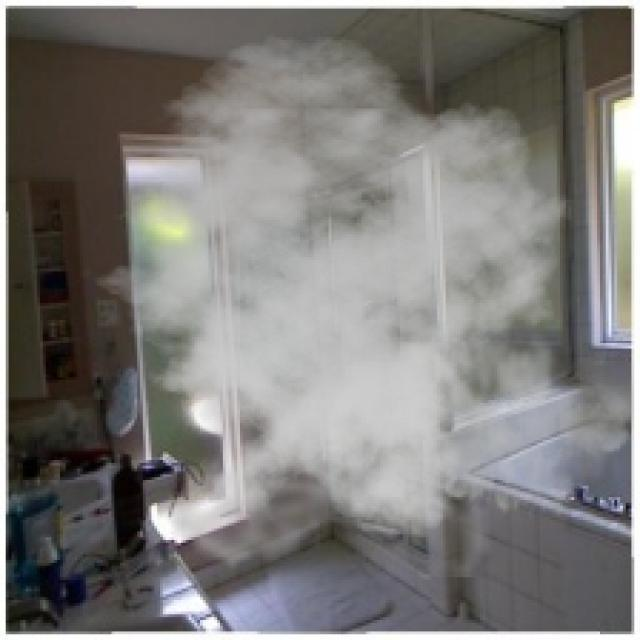Smoke: (71, 34, 634, 577)
